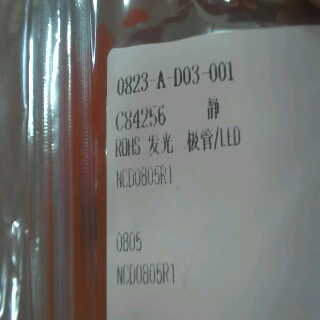LED: (146, 123, 244, 157)
